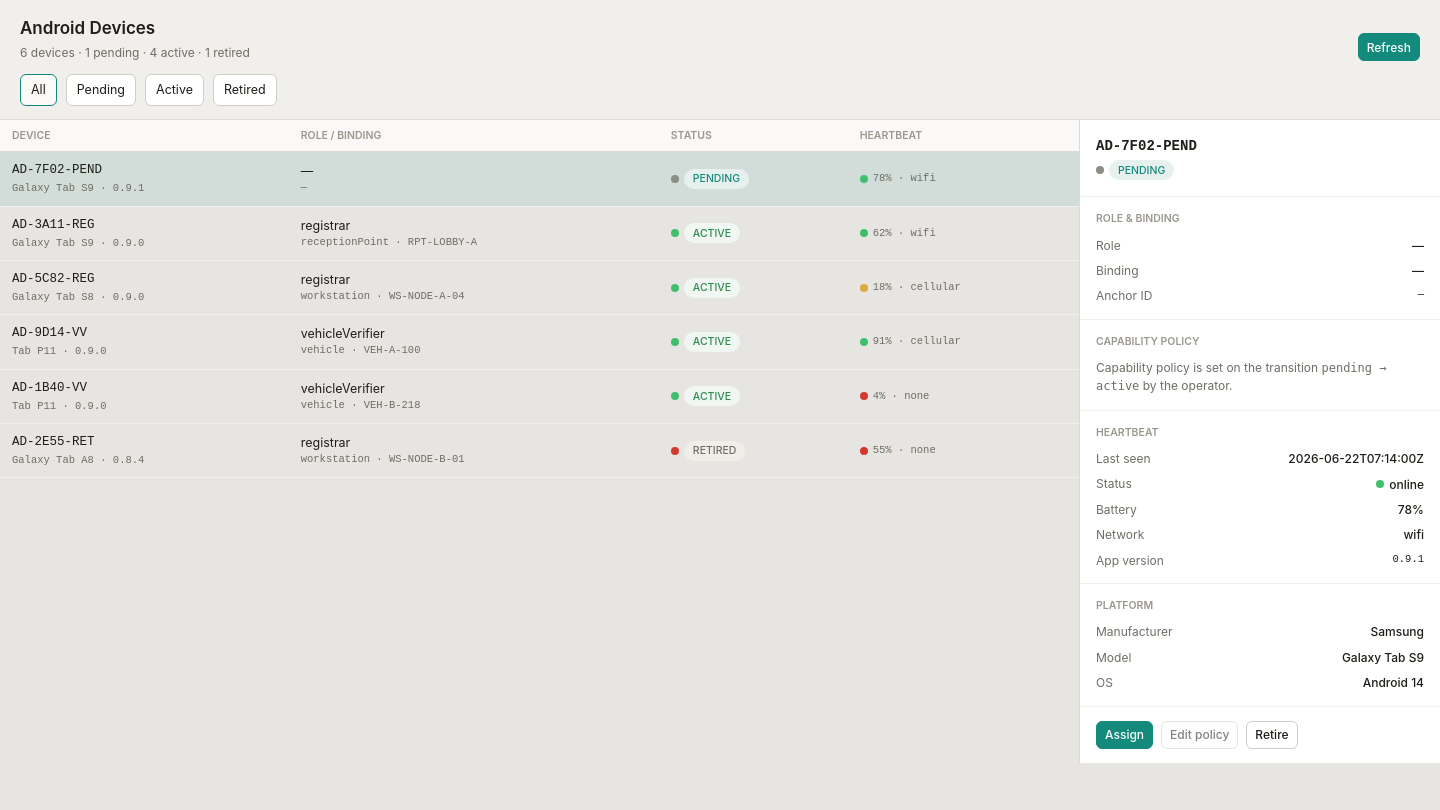
Test: AndroidDevicesScreen › Pending filter narrows the visible list and updates selection
Expected: the button "AD-7F02-PEND Galaxy Tab S9 · 0.9.1" is shown, [12,161,277,197]
Click the tab "Pending".
click(101, 90)  # box [66,74,136,106]
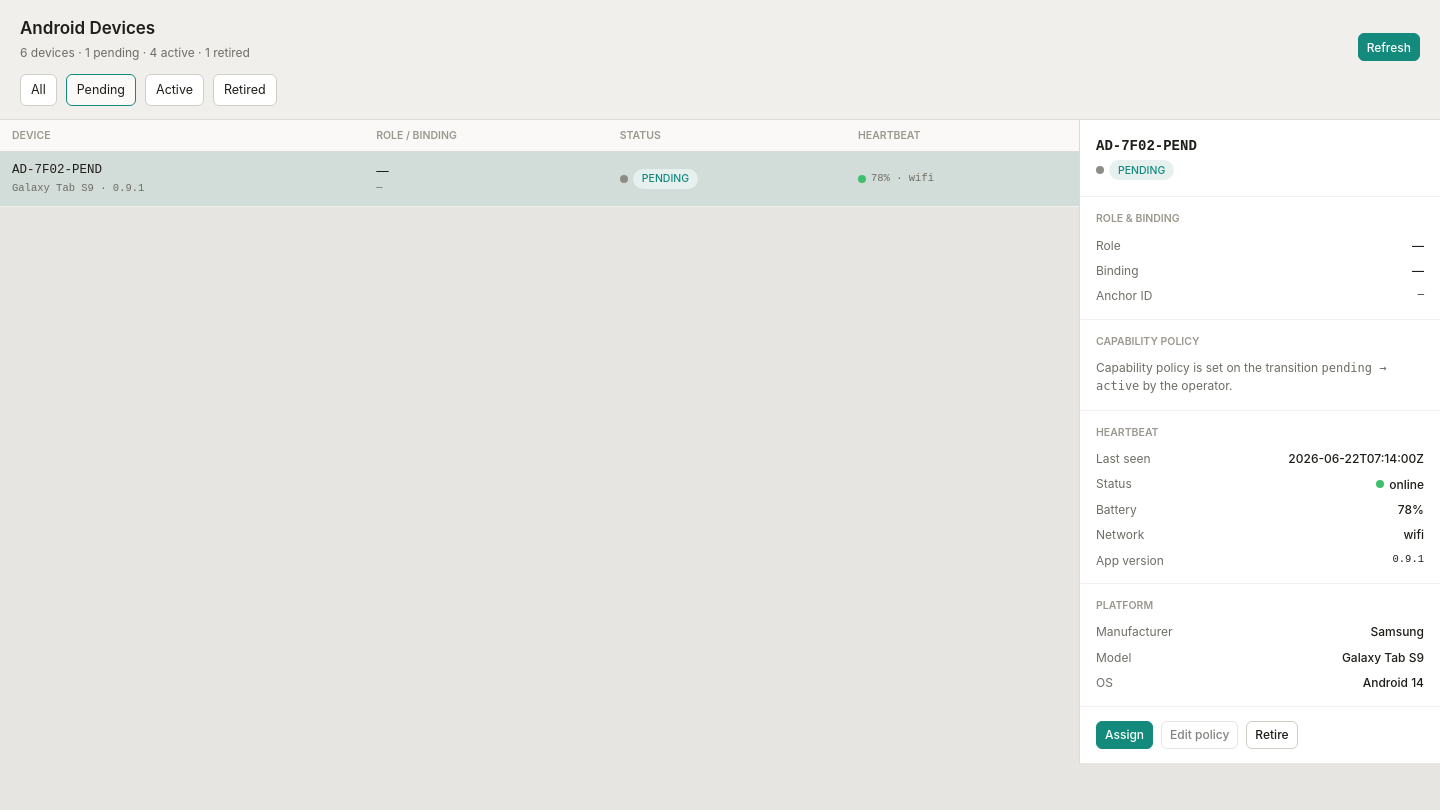
Expected: the button "AD-7F02-PEND Galaxy Tab S9 · 0.9.1" is shown, [12,161,352,197]
Expected: the button "AD-3A11-REG" is gone
